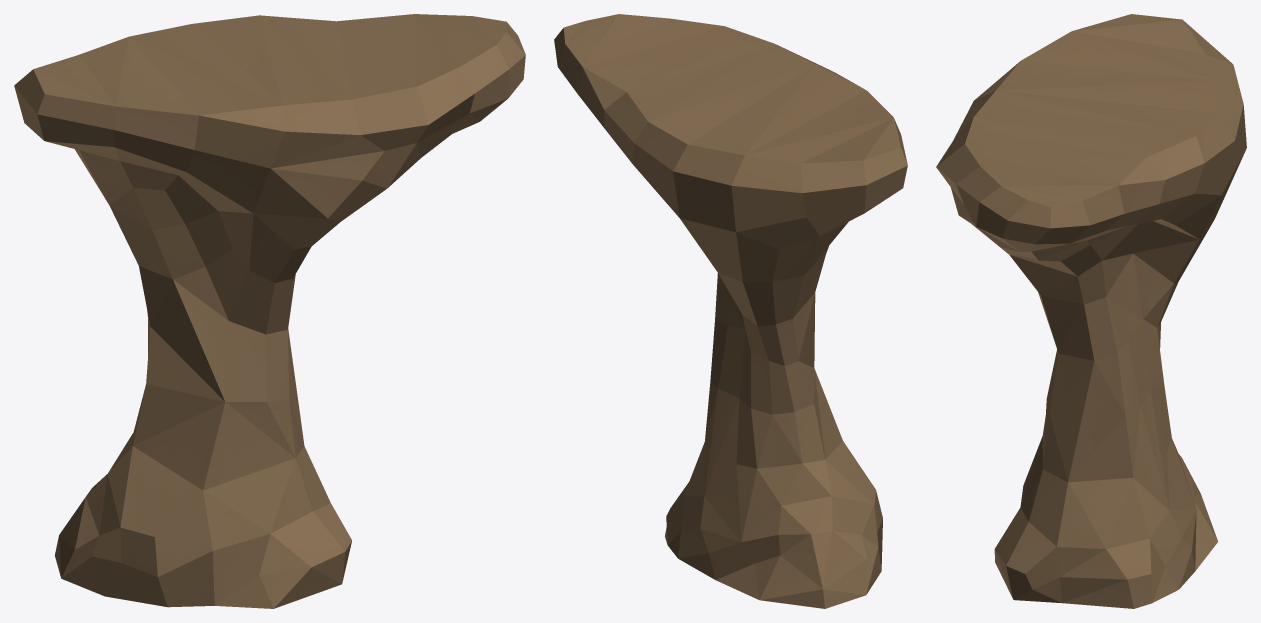
The model's file is Pillar-B02.fbx.
The picture shows the model from 3 angles, left to right: view 1: azimuth 30°, elevation 25°; view 2: azimuth 150°, elevation 25°; view 3: azimuth 270°, elevation 25°; orthographic projection. The views are drawn at different scales.
Parts seen in each view (by area): view 1: Pillar-B02; view 2: Pillar-B02; view 3: Pillar-B02.
Part boxes in pixels (x1,y1,x2,y2): Pillar-B02: (14, 14, 525, 608); Pillar-B02: (554, 14, 907, 608); Pillar-B02: (936, 14, 1246, 608).
Size of the model in its own units: 306 by 198 by 339.
